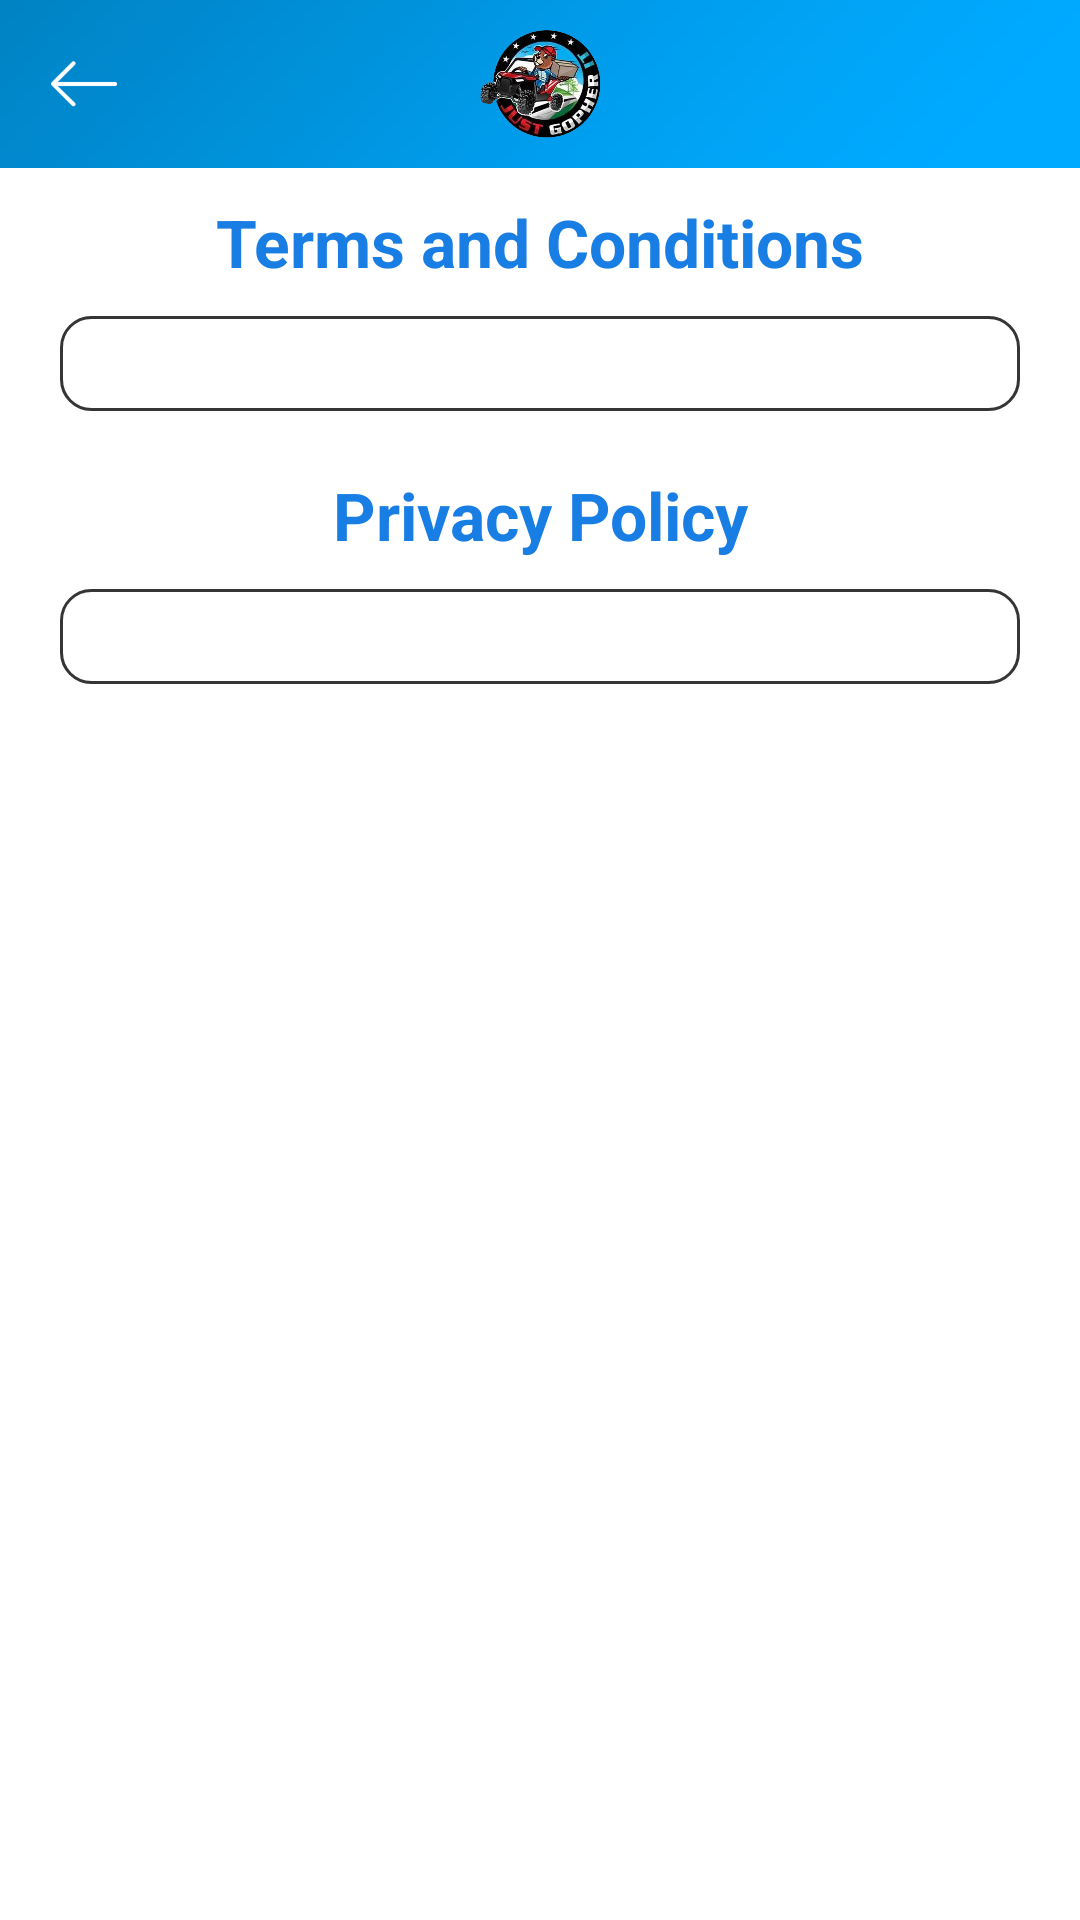

Icons on this 1080px x 1920px Android screen, each with its box as (x1, y1, x2, y2):
back: (51, 61, 117, 107)
